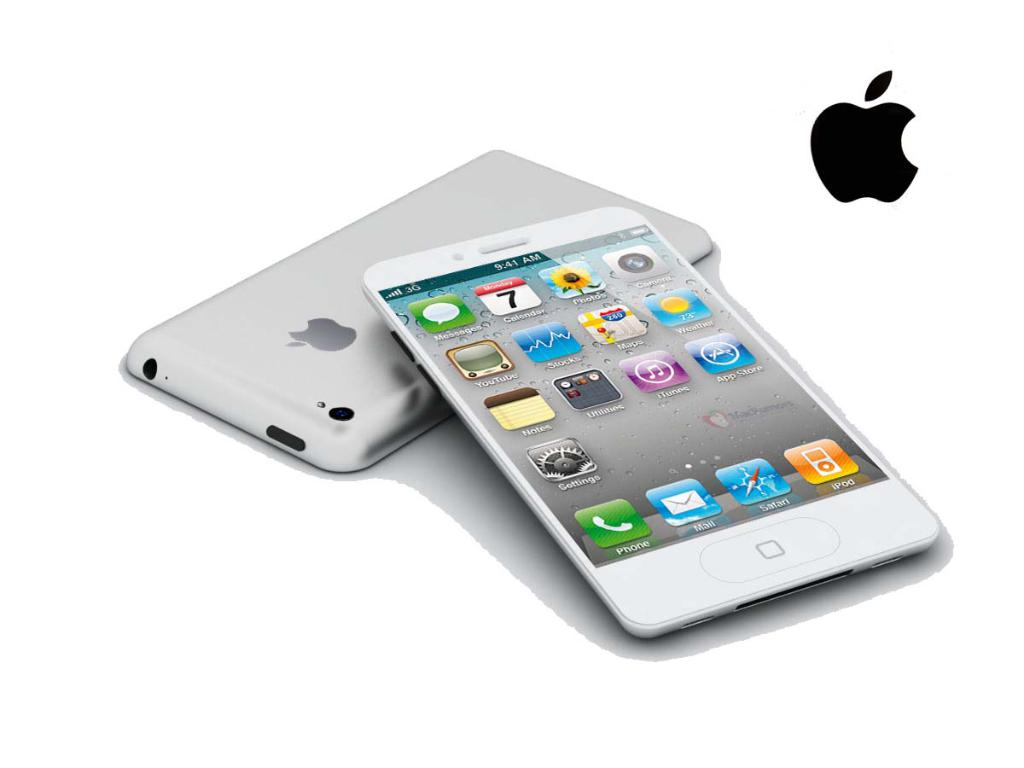Mobile-phone: (358, 196, 940, 644), (121, 144, 712, 472)
